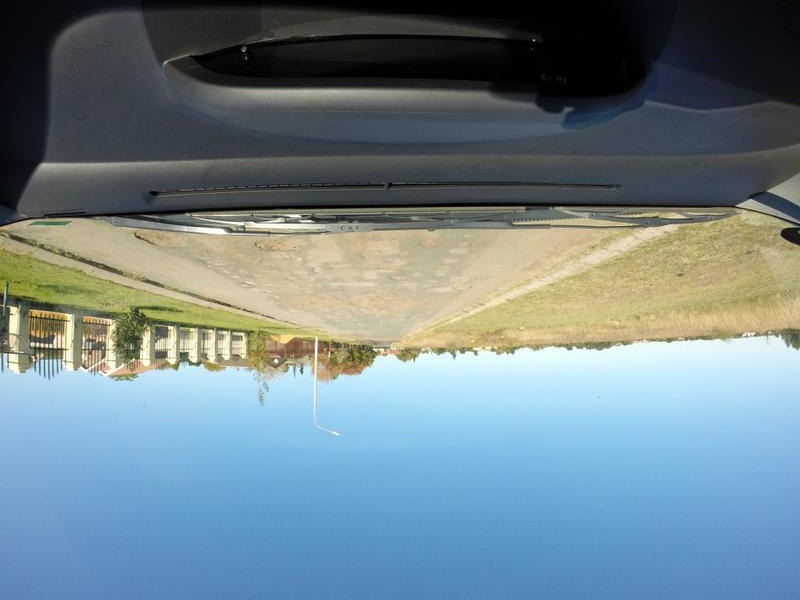pothole: (116, 229, 193, 254), (239, 232, 304, 259), (383, 267, 409, 286), (418, 232, 443, 249)
